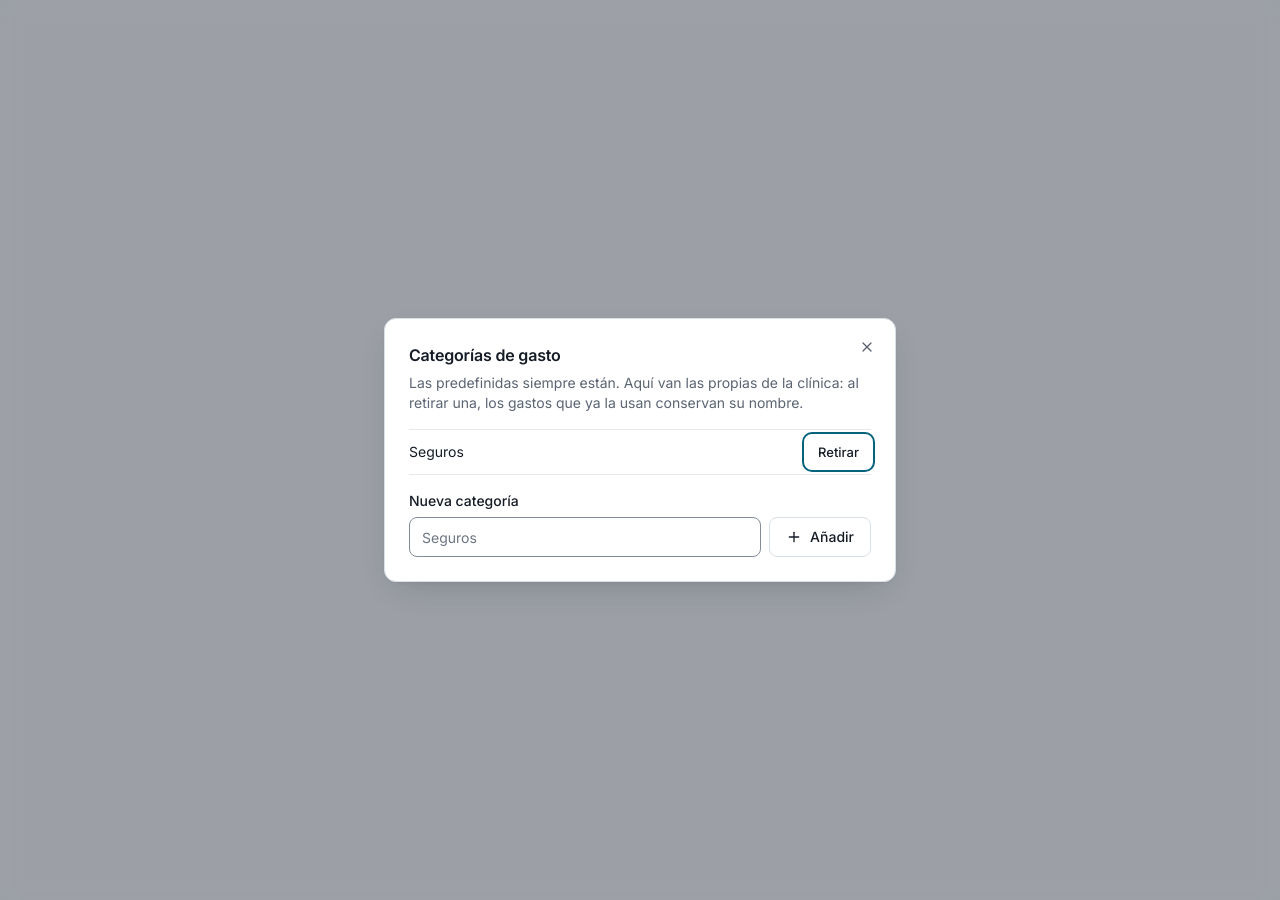
Test: ExpenseCategoriesModal (DX-274) › retira una propia
Click the button with aria-label "Retirar la categoría Seguros" at (838, 452), box x1=806 y1=436 x2=871 y2=468
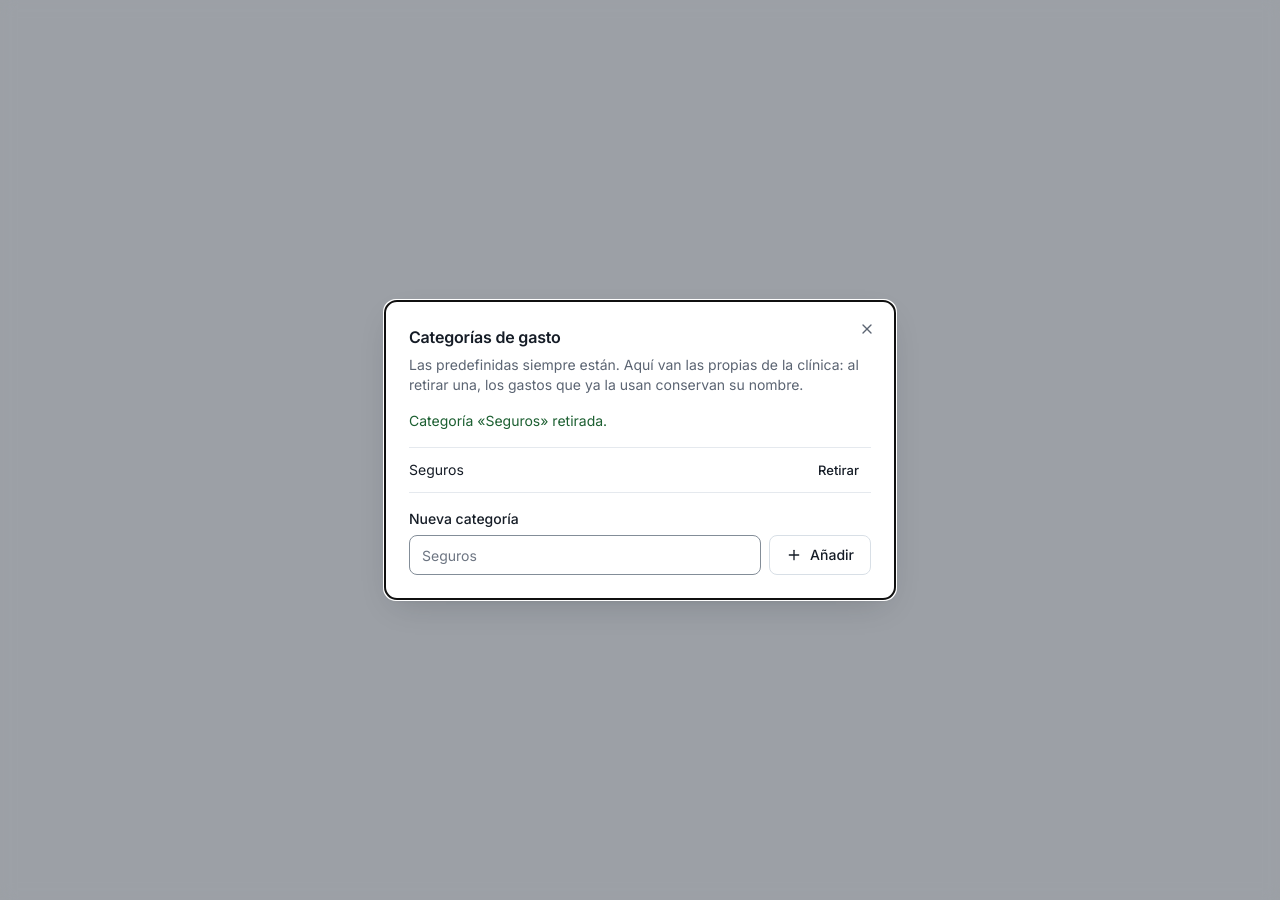
expect the text "Categoría «Seguros» retirada." is shown: met, box x1=409 y1=412 x2=607 y2=429
